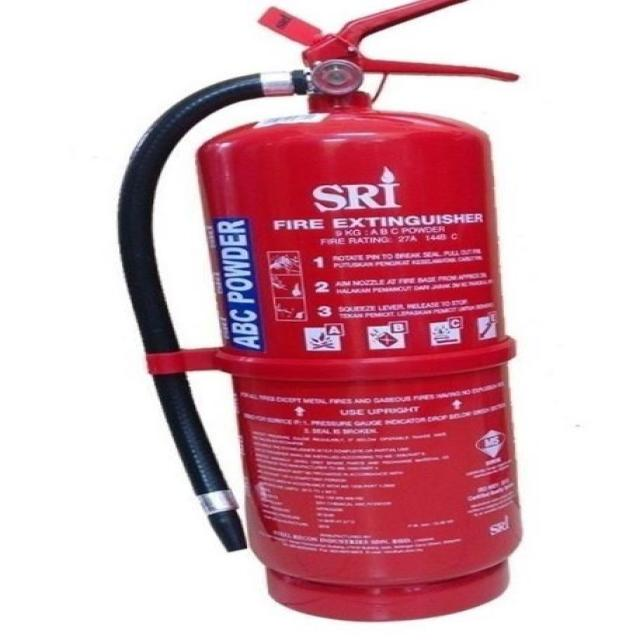fire_extinguisher: (103, 1, 534, 626)
